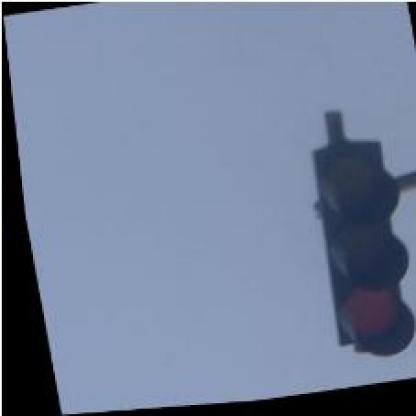red: (297, 140, 414, 369)
